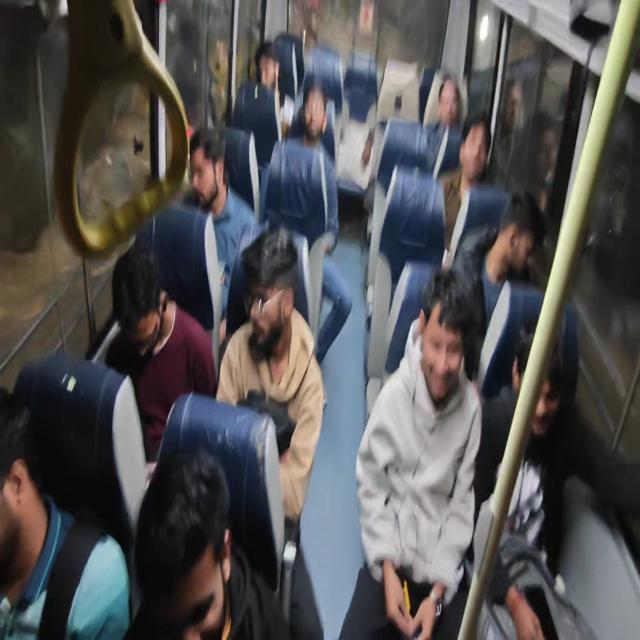person: (468, 321, 639, 638), (338, 266, 483, 638), (215, 226, 325, 637), (0, 390, 130, 639), (263, 77, 352, 365), (104, 243, 218, 463), (122, 445, 232, 638), (452, 188, 546, 383), (185, 126, 264, 338), (441, 111, 491, 257), (254, 40, 294, 141), (424, 77, 463, 177), (492, 77, 526, 185), (526, 111, 559, 210), (254, 40, 280, 90)
